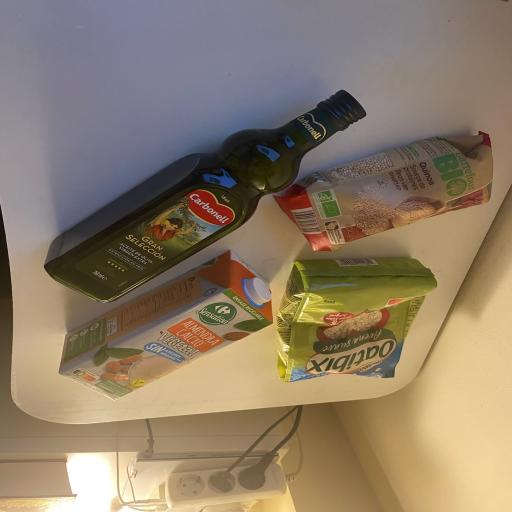almond_milk: (56, 247, 278, 405)
oats: (276, 256, 426, 390)
olive_oil: (42, 86, 368, 308)
quinoa: (274, 131, 500, 250)
